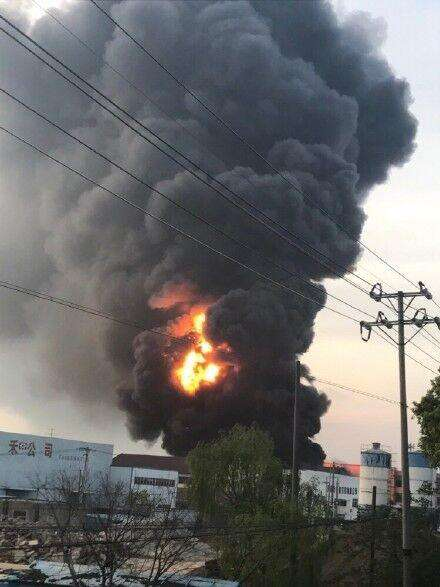fire: (150, 277, 248, 405)
